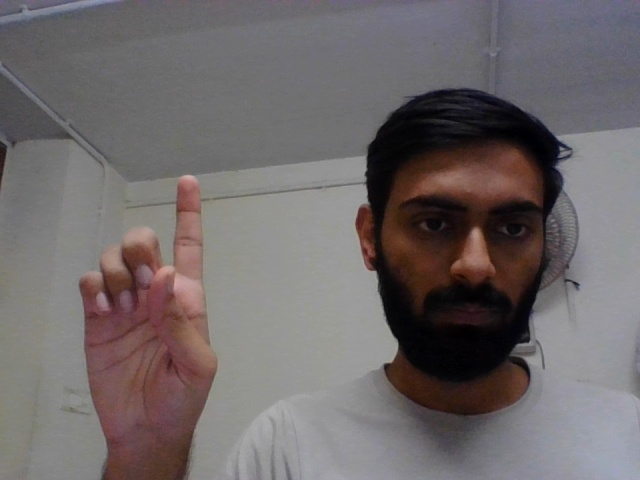D: (72, 166, 223, 468)
